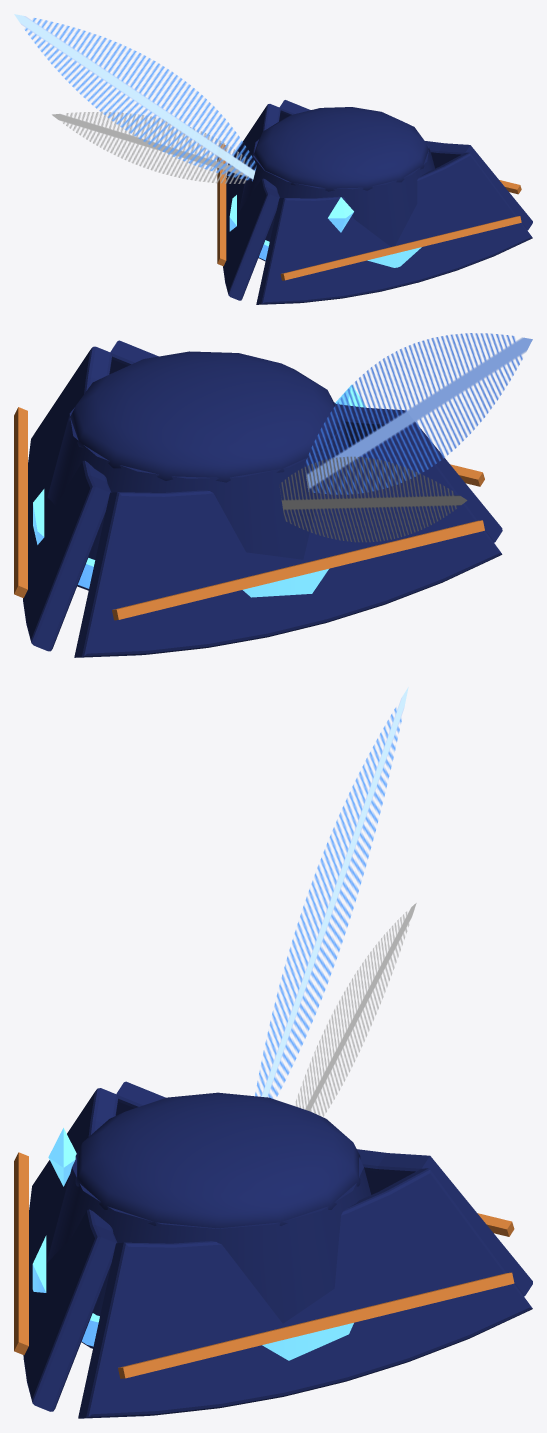
The model's file is hat_eqen3.glb.
3 views of the same model, one above another, from view 1: azimuth 30°, elevation 25°; view 2: azimuth 150°, elevation 25°; view 3: azimuth 270°, elevation 25° (orthographic). The views are drawn at different scales.
Size of the model in its own units: 4.13 by 2.41 by 2.68.
Materials: 6 (2 with a texture image).
